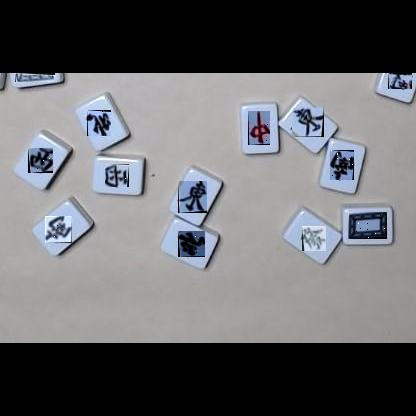1z: (292, 107, 324, 137), (178, 181, 207, 213)
2z: (45, 216, 72, 243), (330, 150, 354, 180), (388, 73, 412, 89)
3z: (28, 148, 53, 173), (105, 164, 129, 187)
4z: (178, 231, 205, 257), (87, 110, 111, 136)
5z: (348, 212, 387, 239), (15, 73, 55, 82)
6z: (302, 226, 326, 251)
7z: (248, 111, 270, 145)
